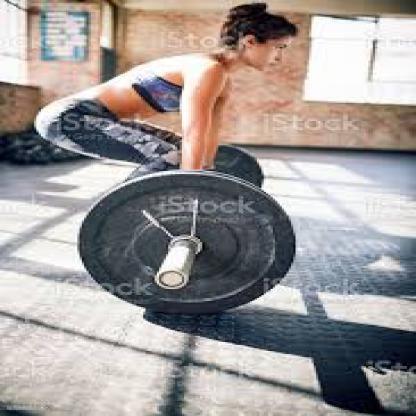Barbell: (61, 163, 308, 327)
